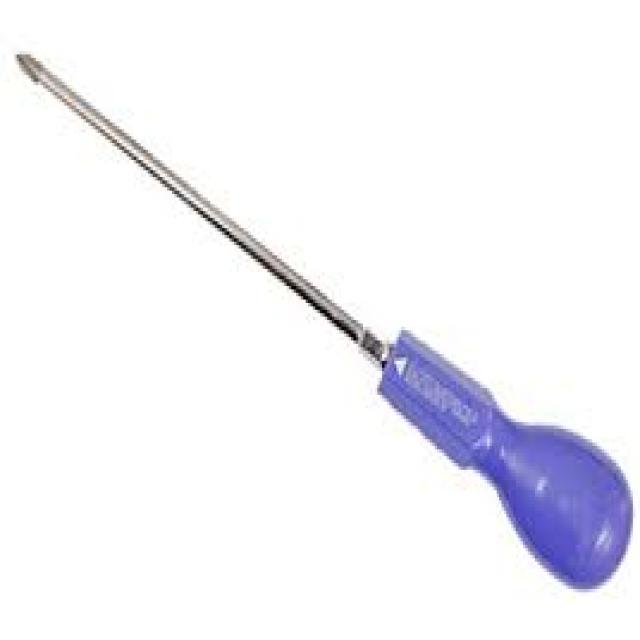screwdriver: (11, 48, 634, 596)
